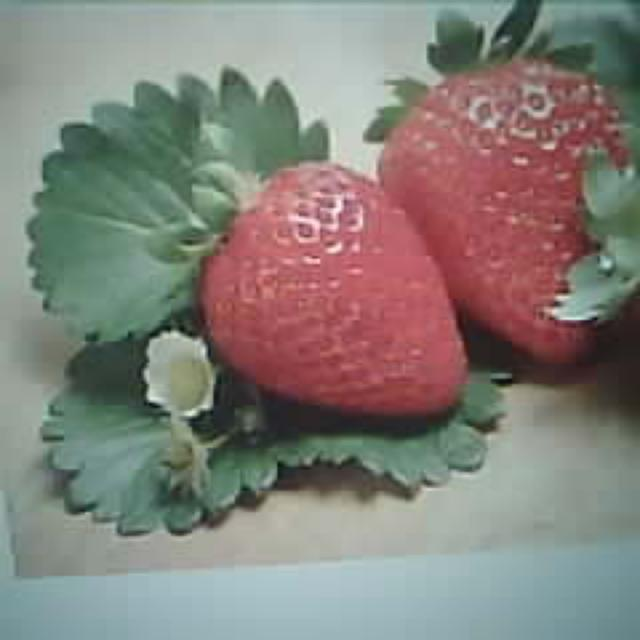ripe: (383, 60, 633, 368), (204, 159, 466, 415)
